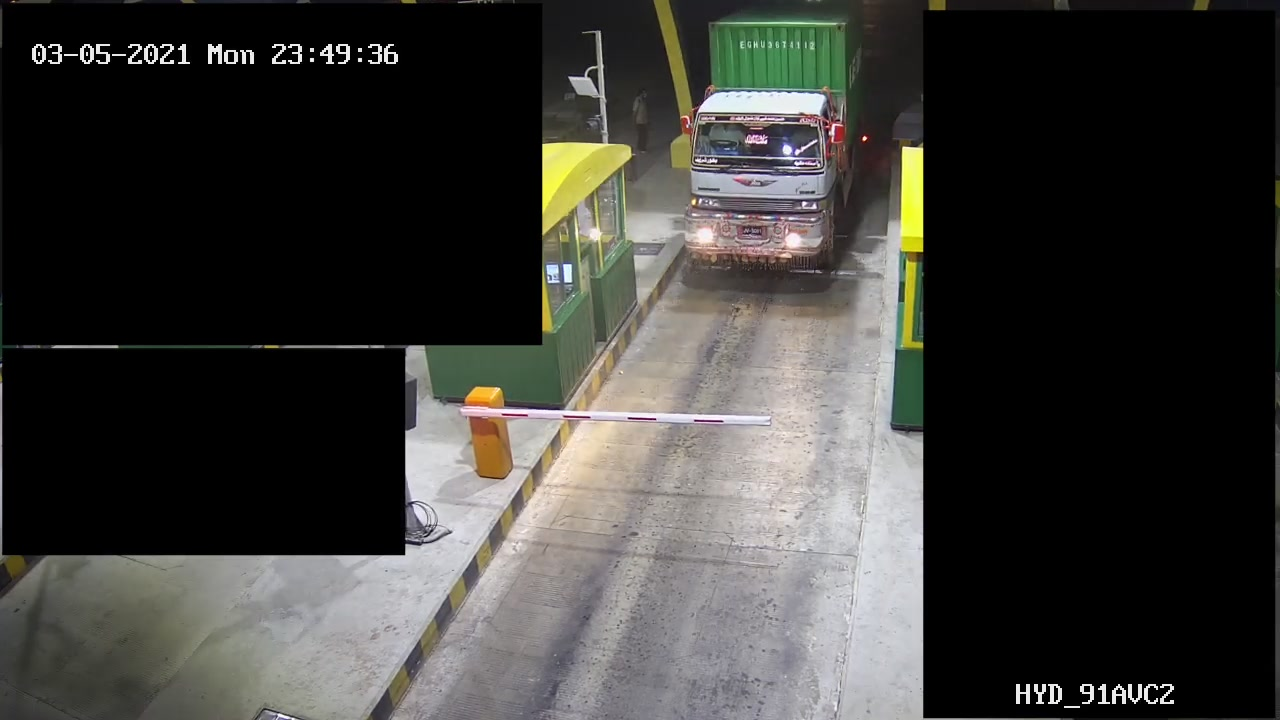F6: (678, 1, 872, 289)
